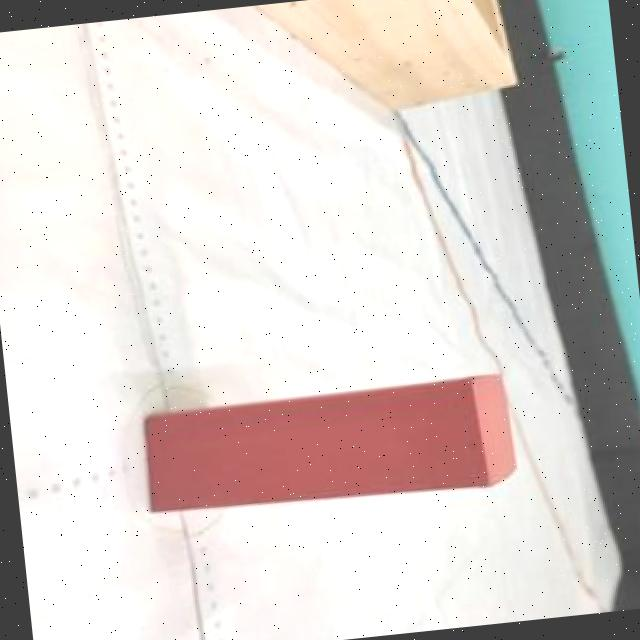redbox: (136, 370, 519, 522)
